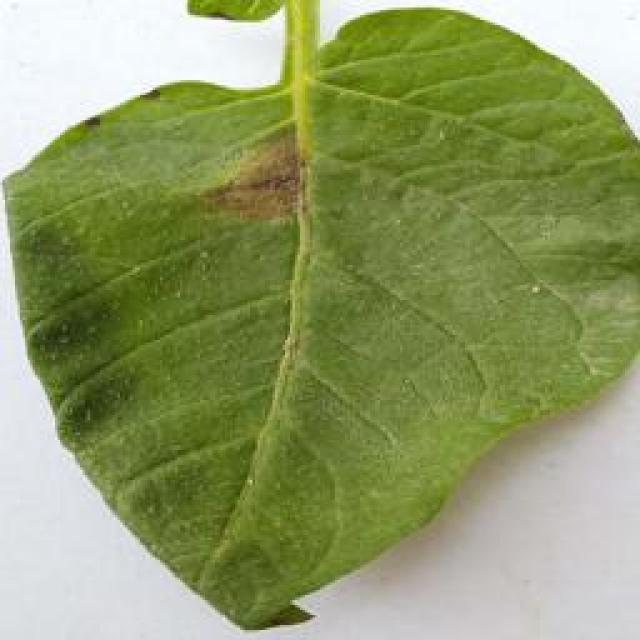Potato_Late_Blight: (7, 5, 637, 628)
